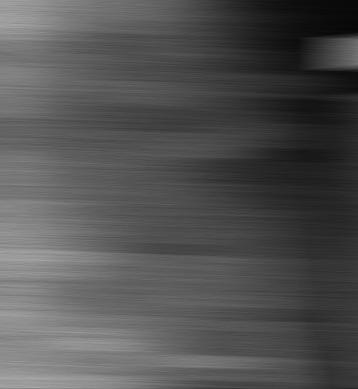Airbag: (0, 0, 358, 389), (344, 97, 358, 389)
